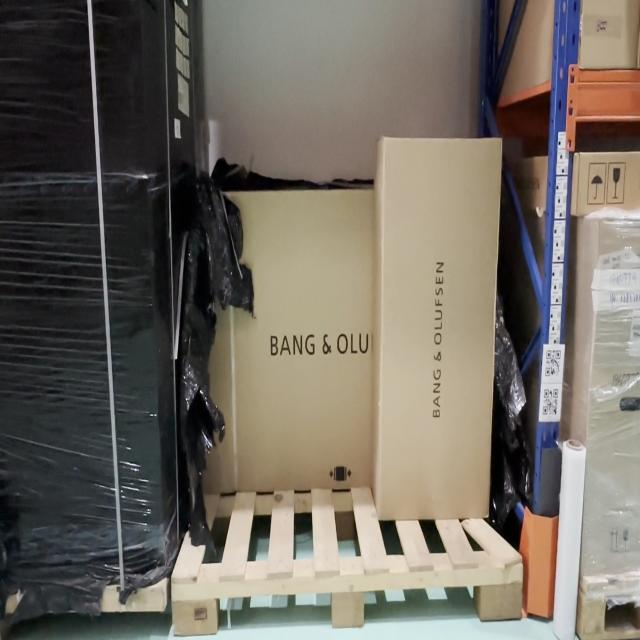box: (376, 132, 502, 521)
